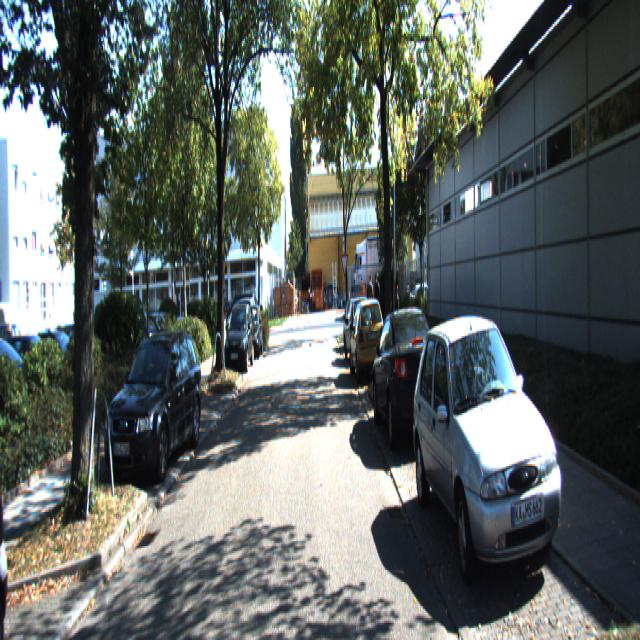Car: (410, 307, 574, 603), (104, 326, 203, 493), (371, 305, 448, 460), (348, 294, 387, 386), (223, 303, 256, 376), (343, 296, 373, 370), (241, 302, 263, 360)
